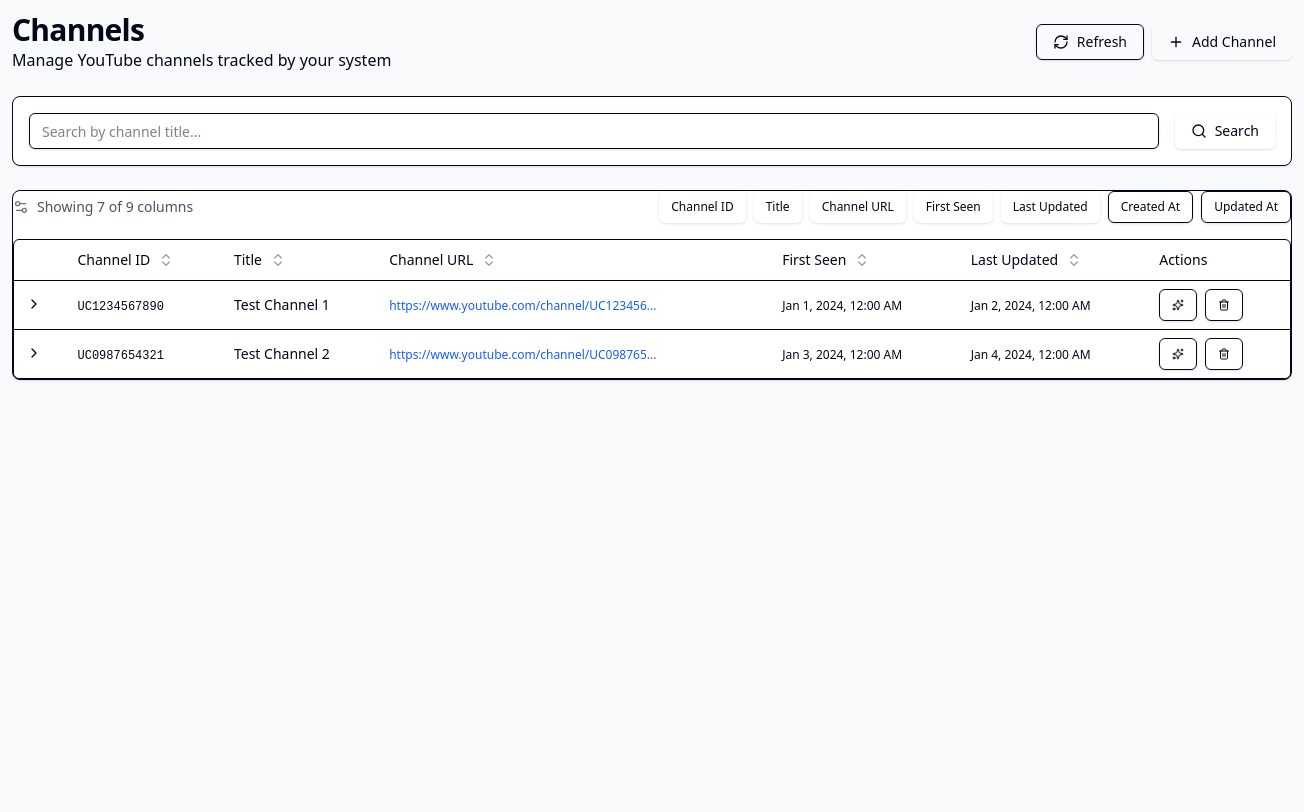
Channels › should show create form when Add Channel button is clicked
Expected: the text "Test Channel 1" is shown, 234,294 -> 330,314
Click the button "Add Channel".
click(1222, 42)  # box 1152,24 -> 1292,60
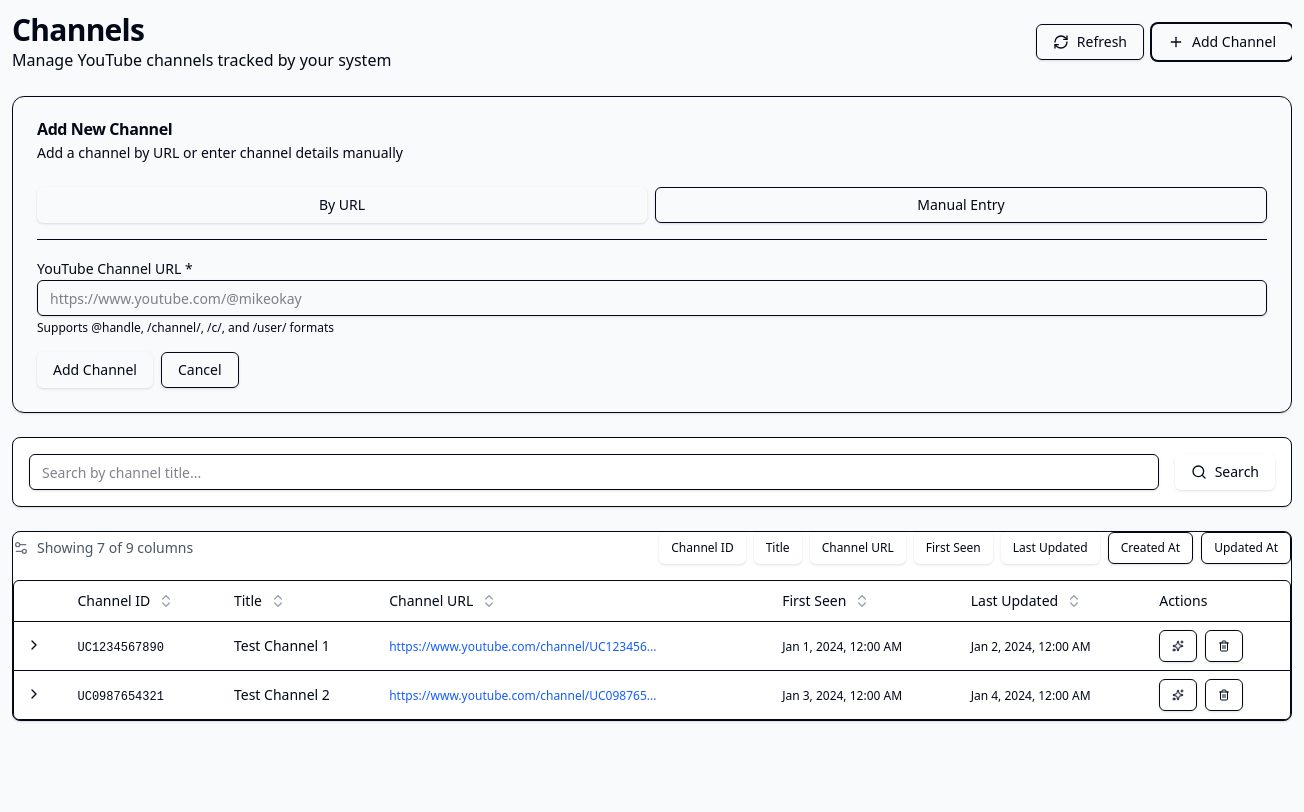
Expected: the heading "Add New Channel" is shown, 37,118 -> 172,140
# Form defaults to URL mode, so click "Manual Entry" to switch
Click the button "Manual Entry".
click(961, 205)  # box 655,187 -> 1267,223
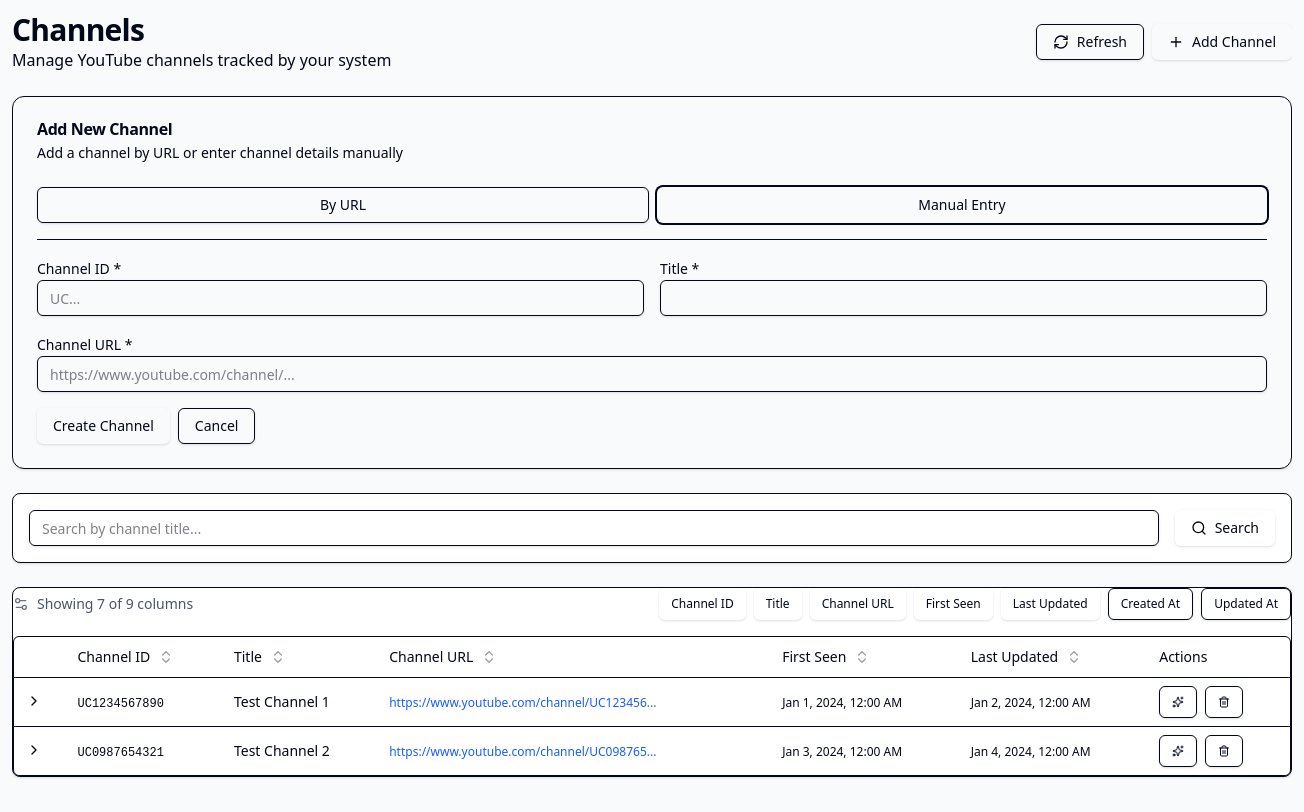
Expected: the field labelled "Channel ID *" is shown, 37,280 -> 644,316
Expected: the field labelled "Title *" is shown, 660,280 -> 1267,316
Expected: the field labelled "Channel URL *" is shown, 37,356 -> 1267,392
